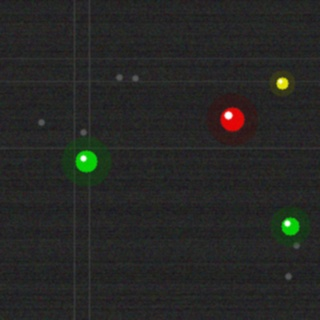green_normal: (73, 148, 99, 174), (279, 215, 301, 237)
red_fault: (218, 105, 246, 133)
yellow_warning: (274, 75, 290, 91)
